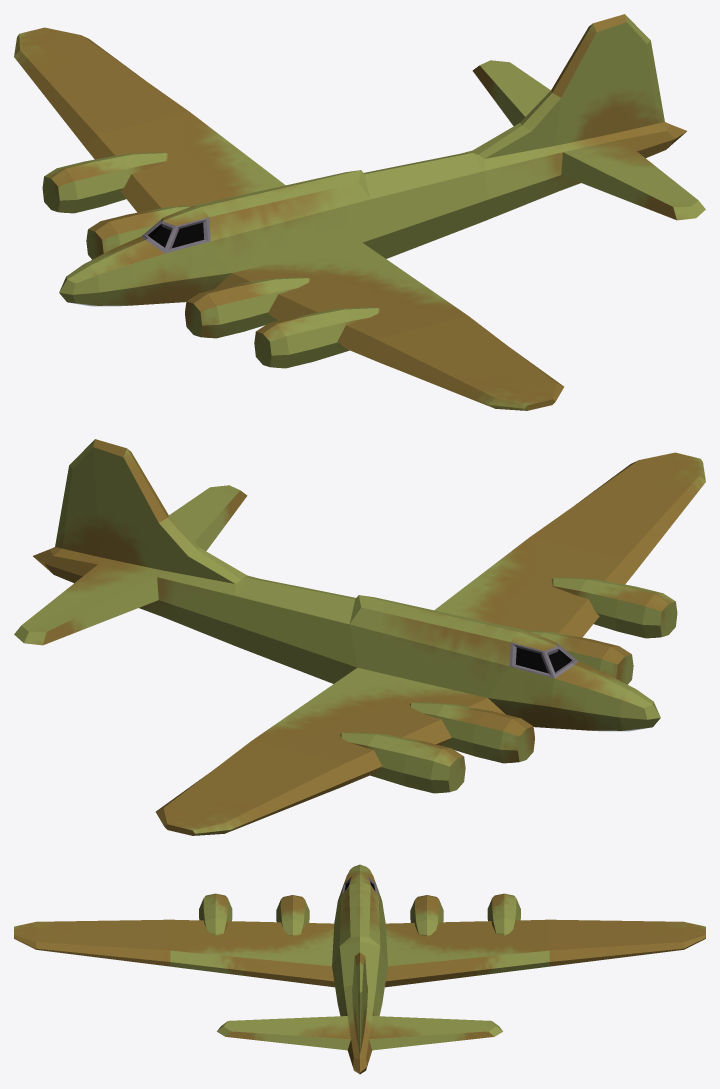
File: WW2BomberBody.fbx
3 renders of one model, top to bottom at view 1: azimuth 30°, elevation 25°; view 2: azimuth 150°, elevation 25°; view 3: azimuth 270°, elevation 25°, orthographic. The views are drawn at different scales.
Visible parts, largest first — view 1: Cube; view 2: Cube; view 3: Cube.
Boxes of the visible parts, x1,y1,x2,y2 form: Cube: [14, 14, 705, 410]; Cube: [14, 439, 705, 835]; Cube: [14, 864, 705, 1074].
Bounding box in the file's own units: 169 × 47.25 × 236.
